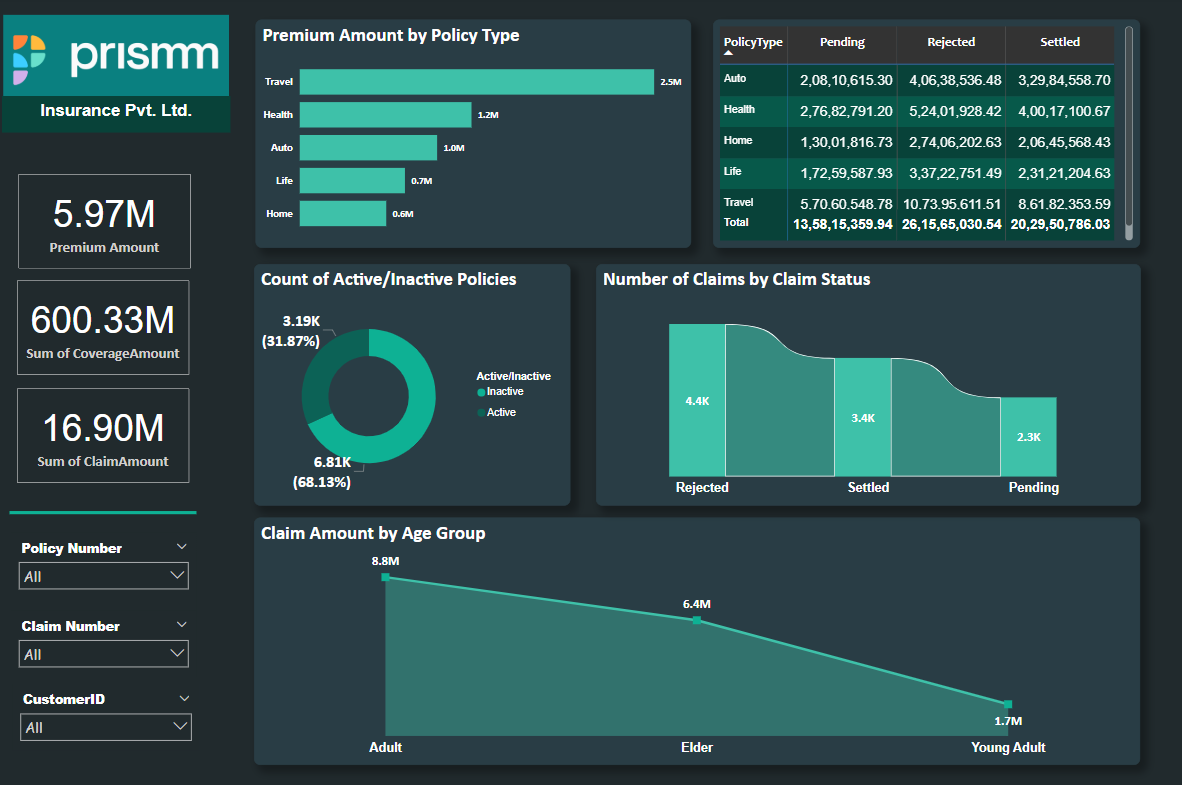

Layout of this report page (visuals, bound fields, positions):
{"tool":"powerbi","page":{"name":"Dashboard","canvas":[1500,1000],"ordinal":0},"visuals":[{"type":"card","fields":{"Values":["Sum(InsuranceData.PremiumAmount)"]},"box":[24.1,218.5,216.7,118.5],"z":3},{"type":"card","fields":{"Values":["Sum(InsuranceData.CoverageAmount)"]},"box":[22.2,353.7,216.7,118.5],"z":4},{"type":"card","fields":{"Values":["Sum(InsuranceData.ClaimAmount)"]},"box":[22.2,488.9,216.7,118.5],"z":5},{"type":"shape","box":[13,570.4,235.2,150],"z":6},{"type":"slicer","fields":{"Values":["InsuranceData.ClaimNumber"]},"box":[14.8,670.4,233.3,100],"z":8},{"type":"slicer","fields":{"Values":["InsuranceData.ClaimNumber"]},"box":[14.8,768.5,233.3,83.3],"z":11},{"type":"slicer","fields":{"Values":["InsuranceData.CustomerID"]},"box":[16.7,861.1,235.2,83.3],"z":12},{"type":"barChart","title":"Premium Amount by Policy Type","fields":{"Y":["Sum(InsuranceData.PremiumAmount)"],"Category":["InsuranceData.PolicyType"]},"box":[322.2,24.1,548.1,287],"z":13},{"type":"donutChart","title":"Count of Active/Inactive Policies","fields":{"Category":["InsuranceData.Active/Inactive"],"Y":["CountNonNull(InsuranceData.Active/Inactive)"]},"box":[320.4,331.5,398.1,303.7],"z":14},{"type":"lineChart","title":"Claim Amount by Age Group","fields":{"Category":["InsuranceData.Age Group"],"Y":["Sum(InsuranceData.ClaimAmount)"]},"box":[320.4,650,1114.8,311.1],"z":15},{"type":"ribbonChart","title":"Number of Claims by Claim Status","fields":{"Category":["InsuranceData.ClaimStatus"],"Y":["CountNonNull(InsuranceData.ClaimStatus)"]},"box":[750,331.5,685.2,303.7],"z":16},{"type":"pivotTable","fields":{"Rows":["InsuranceData.PolicyType"],"Columns":["InsuranceData.ClaimStatus"],"Values":["Sum(InsuranceData.CoverageAmount)"]},"box":[898.1,24.1,537,287],"z":17},{"type":"image","box":[0,0,294.4,148.1],"z":19},{"type":"textbox","box":[3.7,120.4,287,46.3],"z":20}]}

Visuals, with their boxes in screenshot pixels (x1, y1, x2, y2), scaled from the page's 1500x1000 canvas onto the 1182x785 screenshot:
card - Sum(InsuranceData.PremiumAmount): [19, 172, 190, 265]
card - Sum(InsuranceData.CoverageAmount): [17, 278, 188, 371]
card - Sum(InsuranceData.ClaimAmount): [17, 384, 188, 477]
shape: [10, 448, 196, 566]
slicer - InsuranceData.ClaimNumber: [12, 526, 196, 605]
slicer - InsuranceData.ClaimNumber: [12, 603, 196, 669]
slicer - InsuranceData.CustomerID: [13, 676, 198, 741]
"Premium Amount by Policy Type" barChart: [254, 19, 686, 244]
"Count of Active/Inactive Policies" donutChart: [252, 260, 566, 499]
"Claim Amount by Age Group" lineChart: [252, 510, 1131, 754]
"Number of Claims by Claim Status" ribbonChart: [591, 260, 1131, 499]
pivotTable - InsuranceData.PolicyType x InsuranceData.ClaimStatus: [708, 19, 1131, 244]
image: [0, 0, 232, 116]
textbox: [3, 95, 229, 131]
